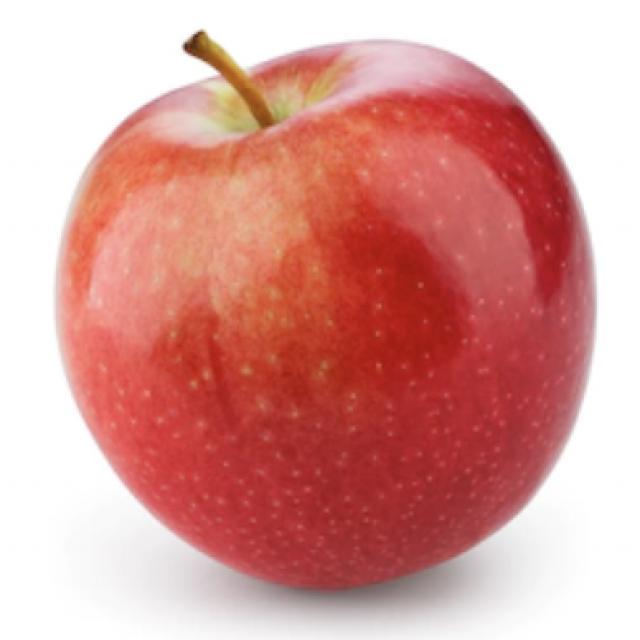Fresh Apple: (58, 34, 612, 598)
